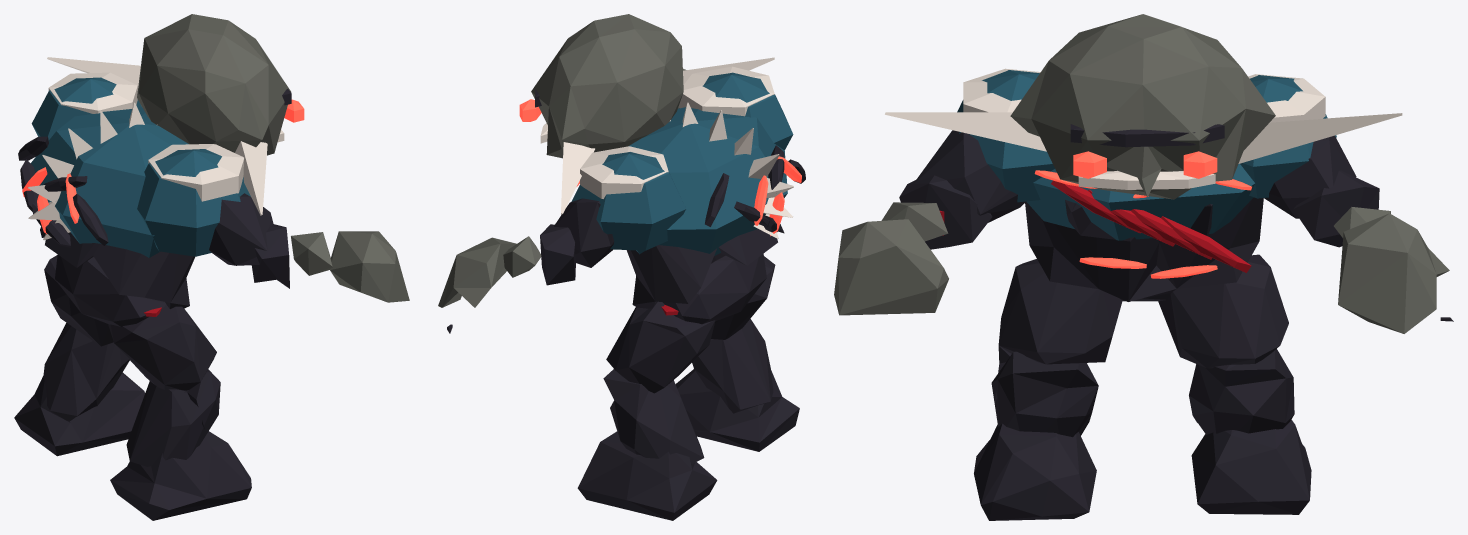
Rendered from inf.mega-alpha-ashen.lod2.glb.
3 renders of one model, left to right at view 1: azimuth 30°, elevation 25°; view 2: azimuth 150°, elevation 25°; view 3: azimuth 270°, elevation 25°, orthographic. The views are drawn at different scales.
Visible parts, largest first — view 1: torso, head, footR, legR, shinR, footL, shinL, handR, hip, armR, foreArmR, legL; view 2: torso, head, footL, legL, shinL, footR, shinR, hip, handL, foreArmL, armL, legR; view 3: head, torso, footR, legL, handL, footL, legR, handR, shinR, shinL, foreArmR, armR (+2 smaller).
Boxes of the visible parts, box(x1,y1,x2,y2) form: torso: box(18, 72, 250, 308); head: box(47, 14, 304, 215); footR: box(110, 431, 251, 520); legR: box(108, 304, 216, 428); shinR: box(126, 369, 220, 466); footL: box(14, 372, 145, 456); shinL: box(43, 322, 129, 420); handR: box(330, 231, 409, 302); hip: box(55, 254, 166, 326); armR: box(209, 193, 273, 265); foreArmR: box(251, 224, 332, 288); legL: box(44, 255, 113, 346); torso: box(571, 66, 805, 308); head: box(519, 14, 774, 214); footL: box(577, 431, 717, 520); legL: box(606, 301, 715, 393); shinL: box(603, 369, 704, 463); footR: box(675, 369, 799, 451); shinR: box(692, 319, 773, 413); hip: box(662, 254, 766, 324); handL: box(438, 237, 516, 333); foreArmL: box(503, 224, 575, 285); armL: box(554, 198, 614, 267); legR: box(711, 256, 775, 339); head: box(885, 14, 1402, 199); torso: box(957, 68, 1336, 301); footR: box(974, 423, 1096, 520); legL: box(1158, 254, 1288, 368); handL: box(1338, 213, 1453, 333); footL: box(1191, 419, 1311, 514); legR: box(994, 259, 1122, 402); handR: box(834, 219, 948, 315); shinR: box(991, 351, 1098, 437); shinL: box(1189, 349, 1294, 434); foreArmR: box(881, 175, 992, 249); armR: box(914, 130, 1026, 222).
Size of the model in its own units: 1.63 by 2.57 by 2.83.
